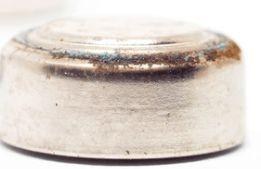battery: (0, 13, 245, 169)
